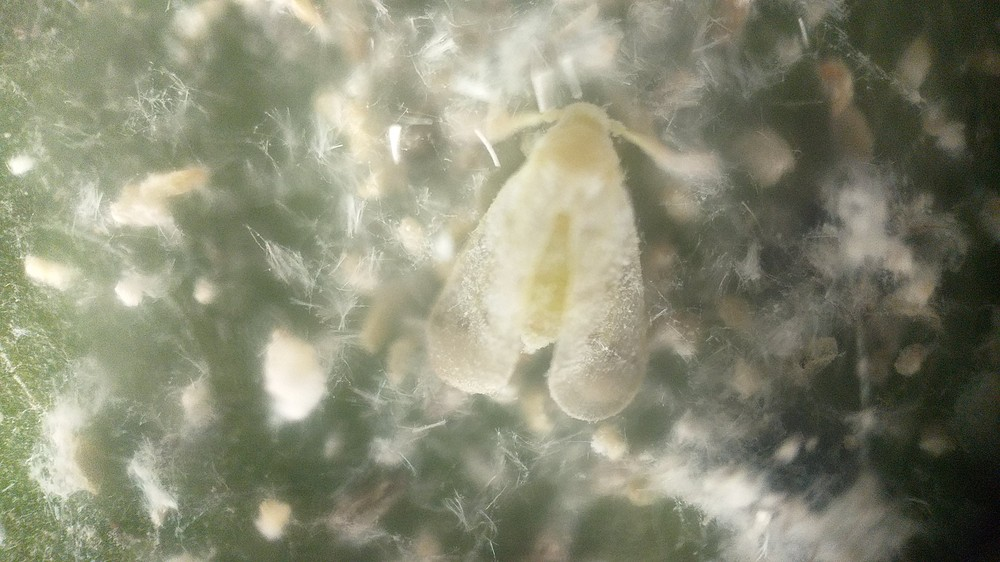Mosca Blanca: (411, 93, 752, 423)
